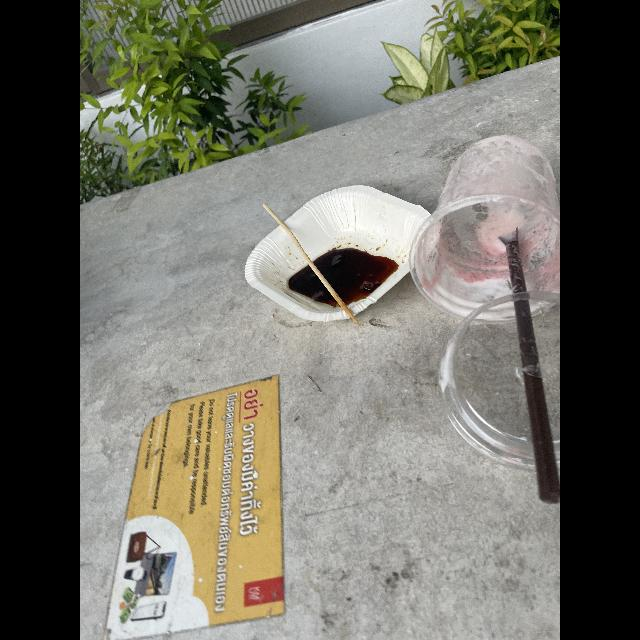cardboard_bowl: (250, 183, 426, 323)
plastic_cup: (409, 129, 553, 327)
plastic_cup_lid: (432, 288, 560, 480)
stick: (252, 197, 384, 338)
straw: (482, 216, 560, 509)
